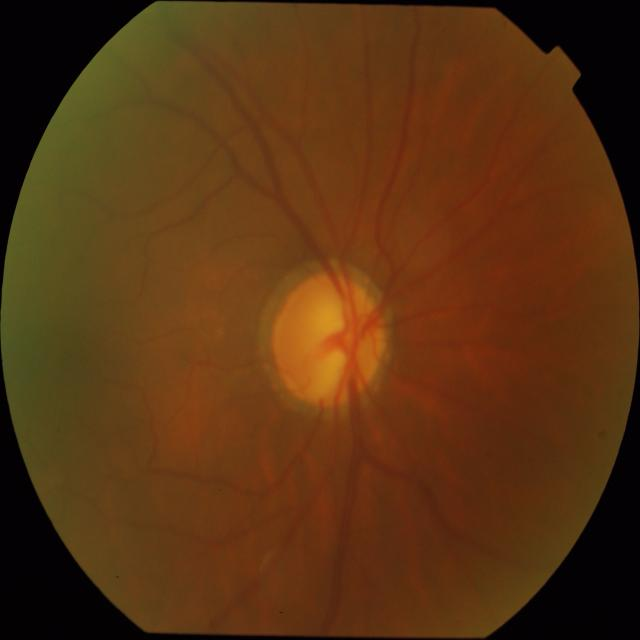OC: (280, 284, 377, 398)
OD: (270, 272, 385, 407)
